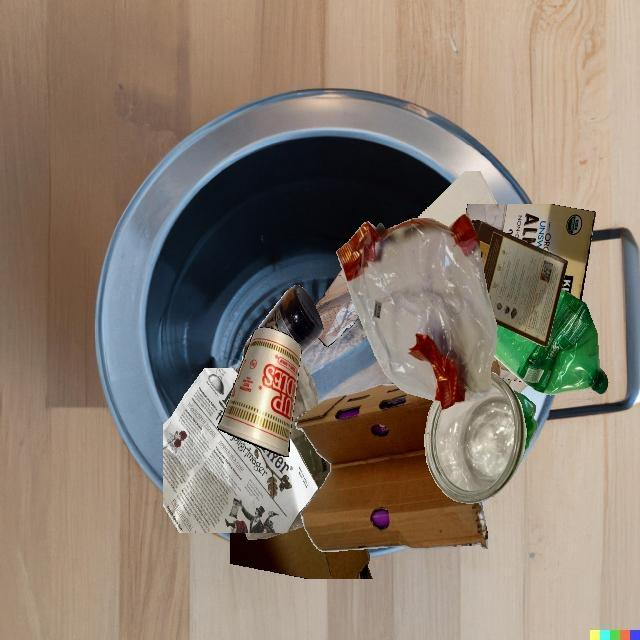cardboard: (295, 384, 487, 552), (466, 204, 596, 301), (471, 219, 568, 347), (230, 526, 372, 579), (304, 404, 330, 528)
glass: (424, 372, 527, 504), (238, 367, 316, 533), (257, 285, 323, 355), (500, 378, 512, 386)
paper: (163, 368, 318, 533), (417, 171, 497, 227), (315, 268, 359, 347)
plastic: (336, 214, 497, 410), (493, 288, 608, 395), (513, 390, 538, 462)
trash: (217, 327, 301, 457)
